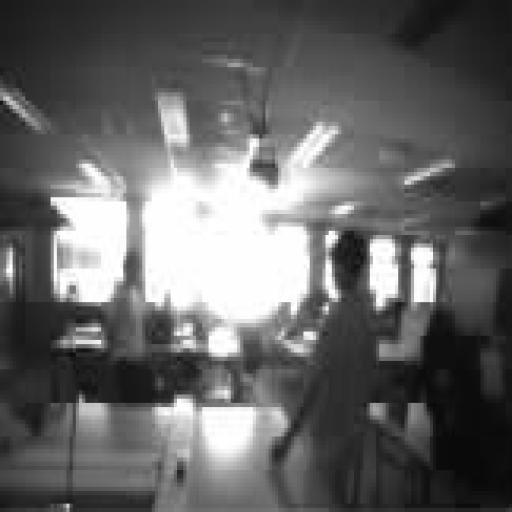human: (272, 231, 376, 503), (108, 252, 154, 402)
